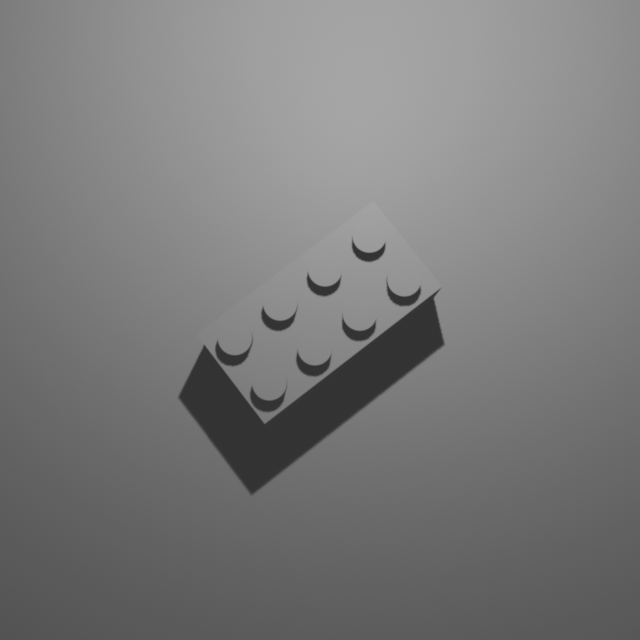lego_2x4: (195, 198, 444, 426)
